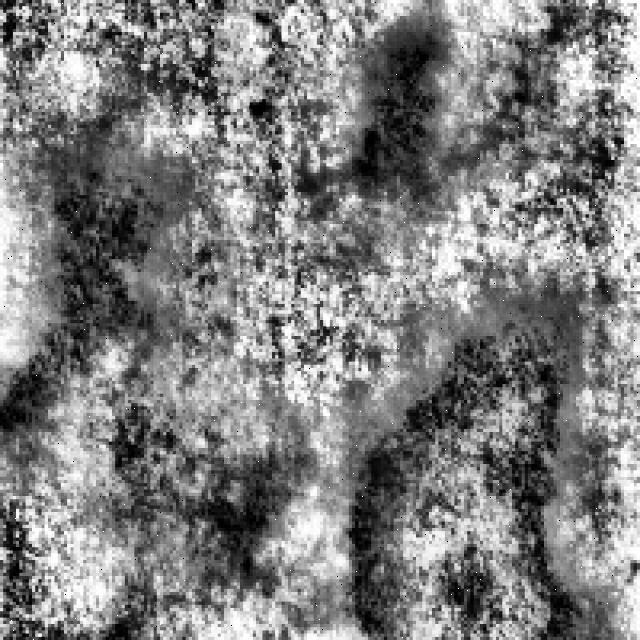Scratches: (349, 294, 592, 637), (9, 128, 172, 422), (128, 403, 288, 570), (349, 16, 464, 195)
